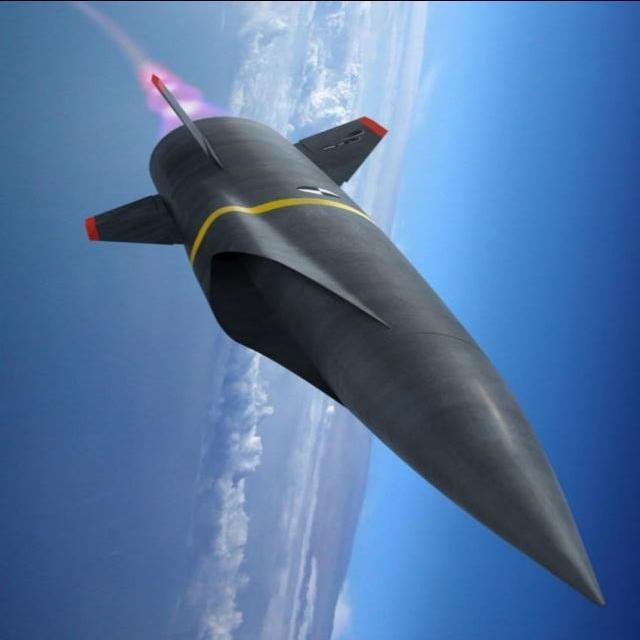missile: (86, 56, 607, 614)
